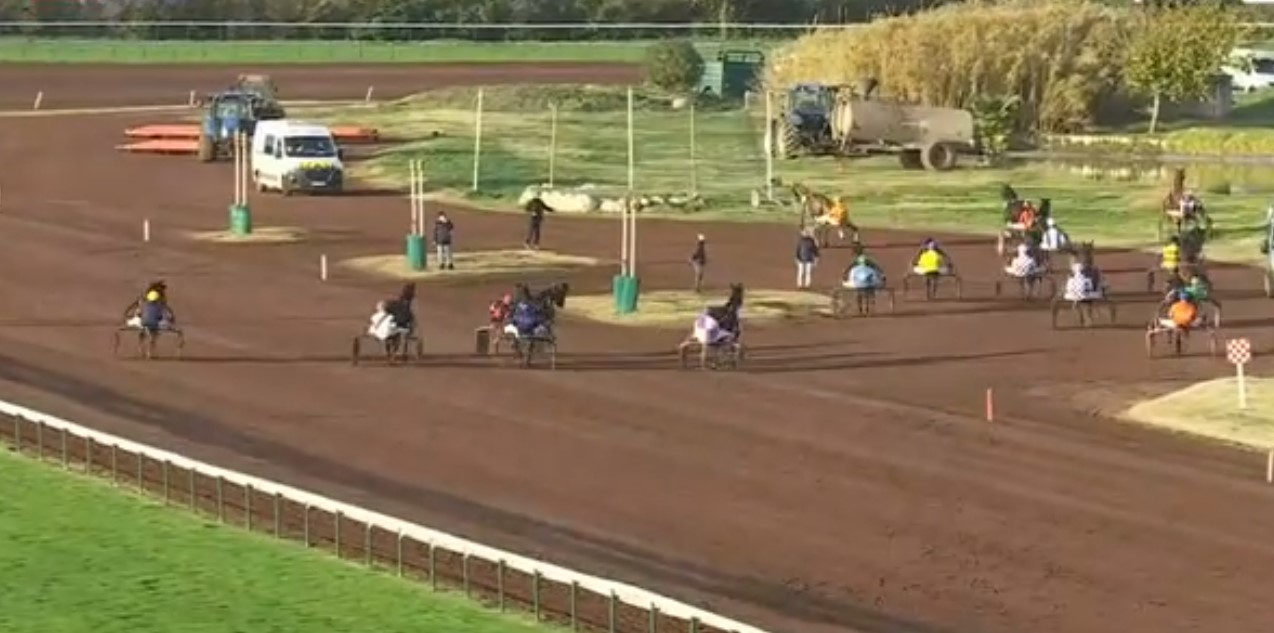b: (498, 282, 565, 374), (1140, 275, 1213, 357), (1049, 241, 1114, 331), (987, 229, 1056, 302), (828, 247, 892, 317), (1168, 255, 1226, 332), (1009, 200, 1076, 263), (900, 236, 964, 301), (990, 181, 1043, 255), (1148, 226, 1204, 290)
bl: (792, 175, 865, 252)
br: (345, 279, 427, 371), (107, 272, 189, 362), (673, 282, 758, 367), (474, 279, 535, 355)
